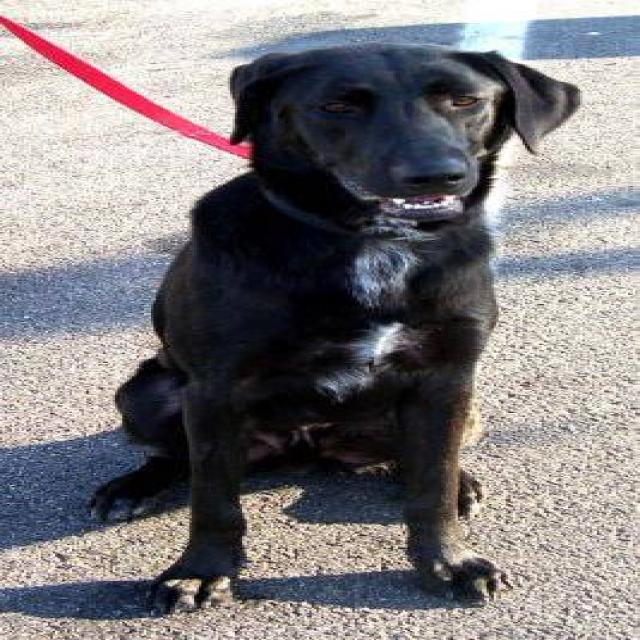dog: (47, 26, 617, 634)
